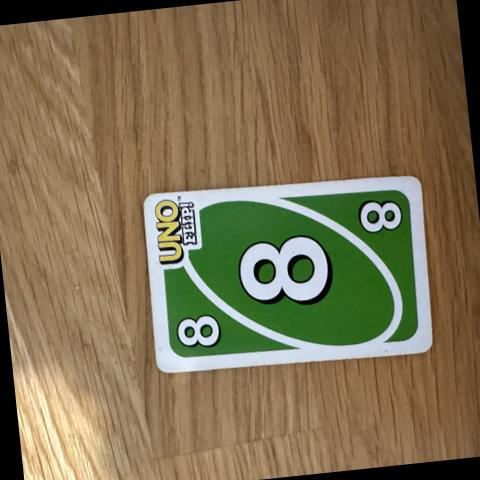lgreen-8: (159, 304, 240, 366)
